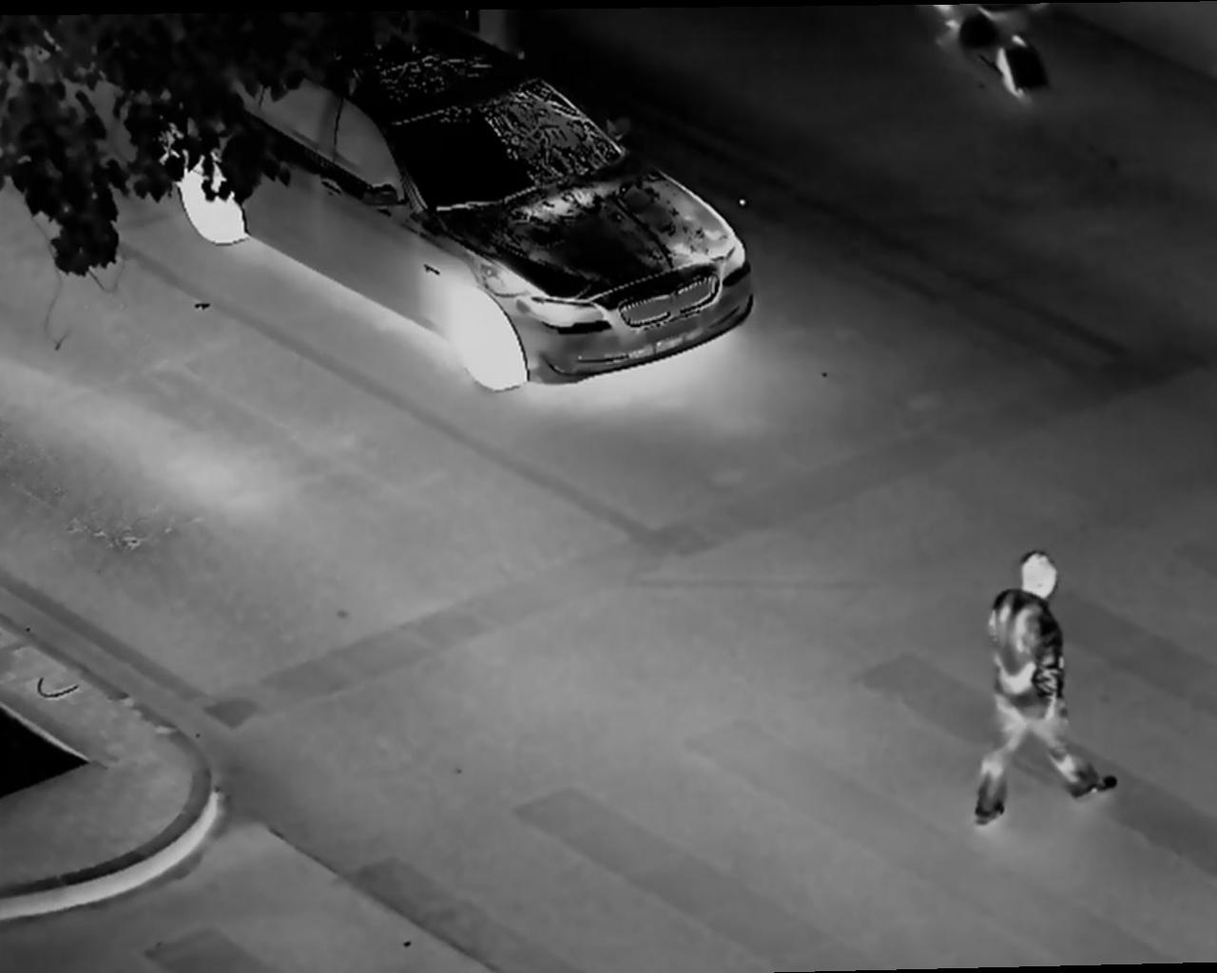person: (974, 545, 1123, 817)
